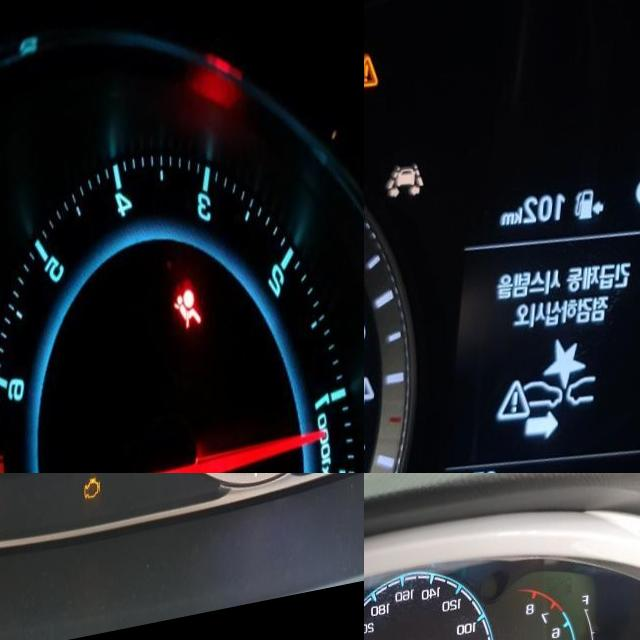Central Warning lamp: (364, 54, 382, 93)
LaneCenteringOff: (388, 164, 428, 198)
